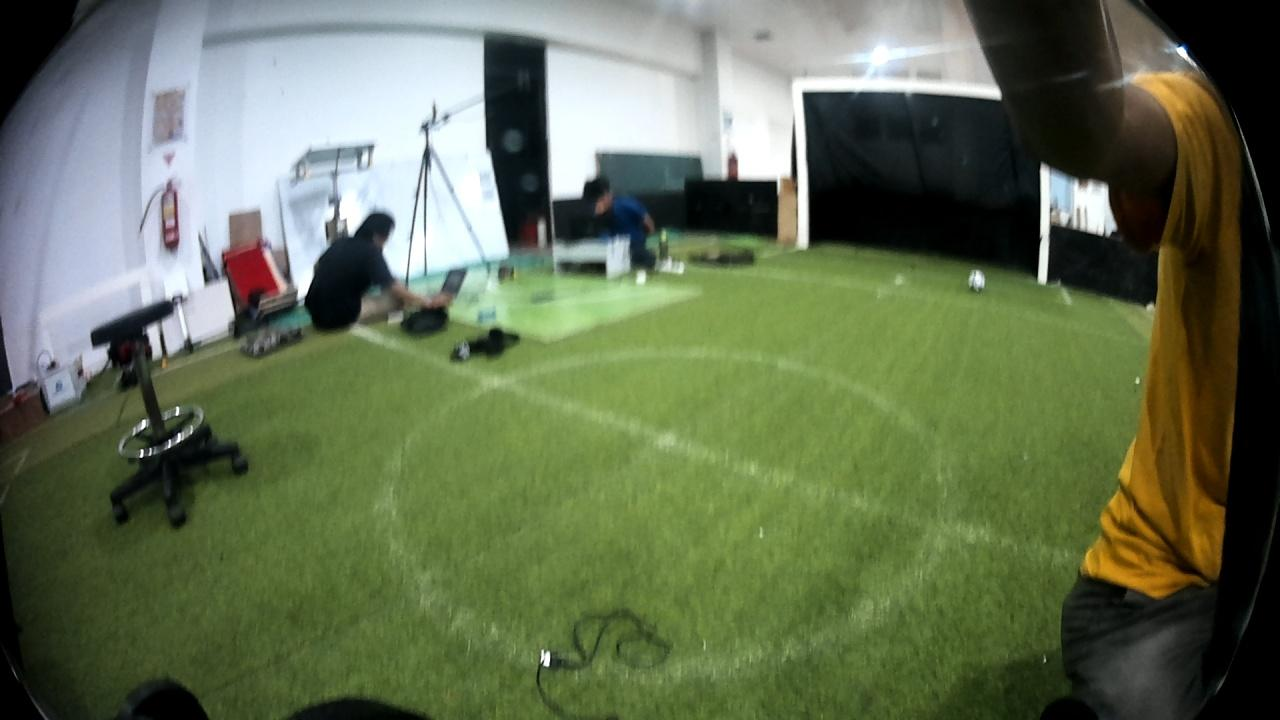ball: (970, 267, 991, 293)
